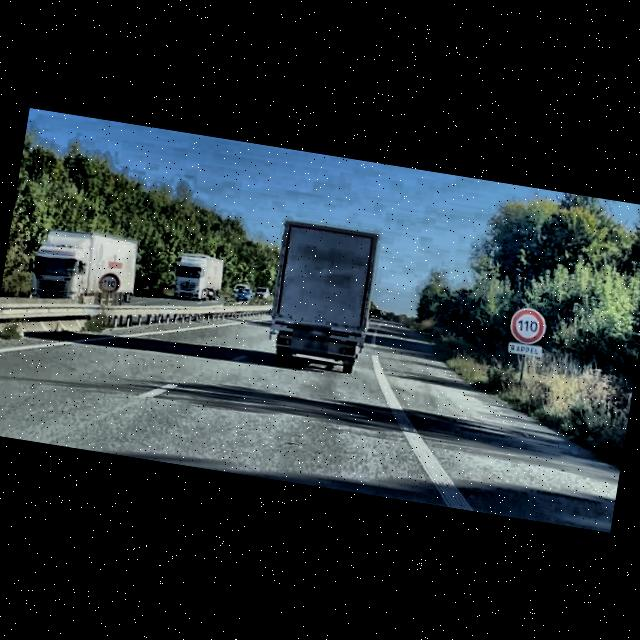speed_110: (508, 307, 548, 344)
